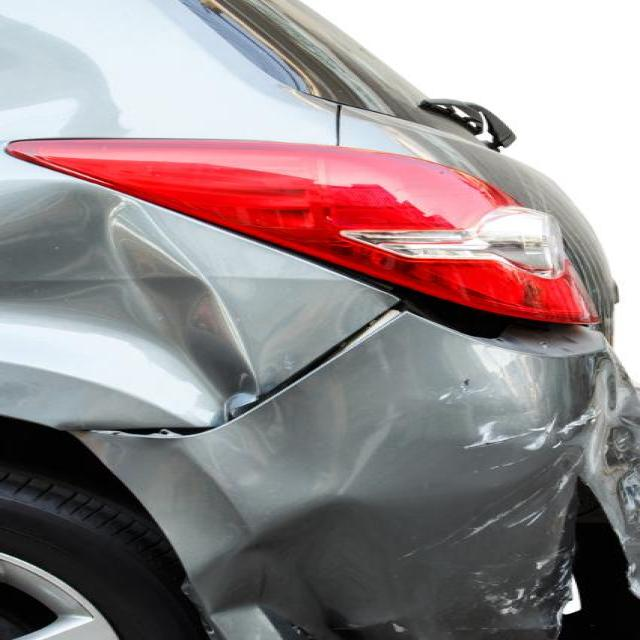Dent: (417, 457, 571, 564), (461, 412, 546, 449), (550, 405, 598, 444), (437, 375, 492, 406), (390, 621, 405, 633), (99, 428, 119, 436), (461, 378, 470, 387)
